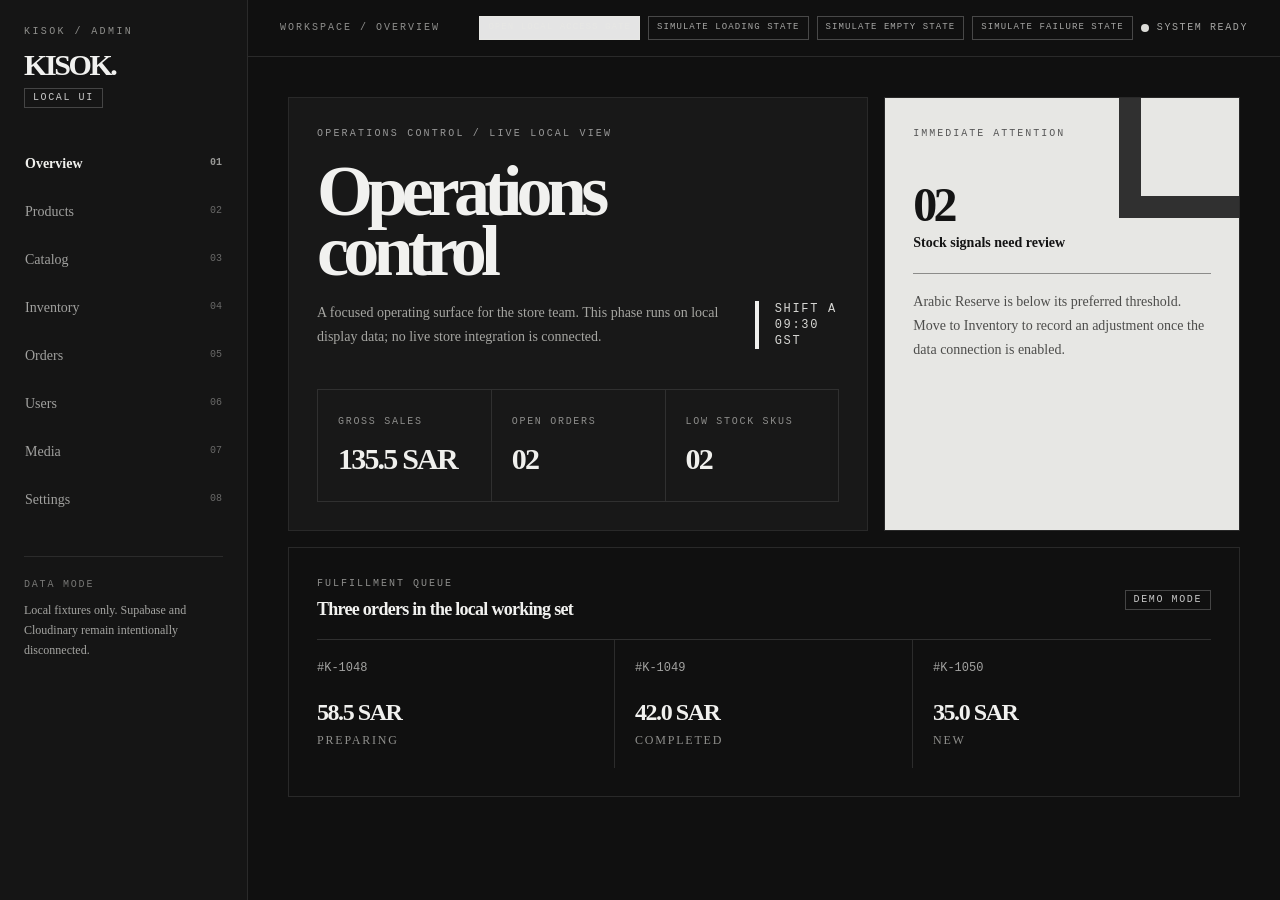
it: KisokAdminConsole › opens a local product draft buffer without requesting an external service
What coordinates should you click on to do the following:
click the button "Products 02"
I would click on:
 (124, 212)
Its box is x1=24 y1=188 x2=223 y2=236.
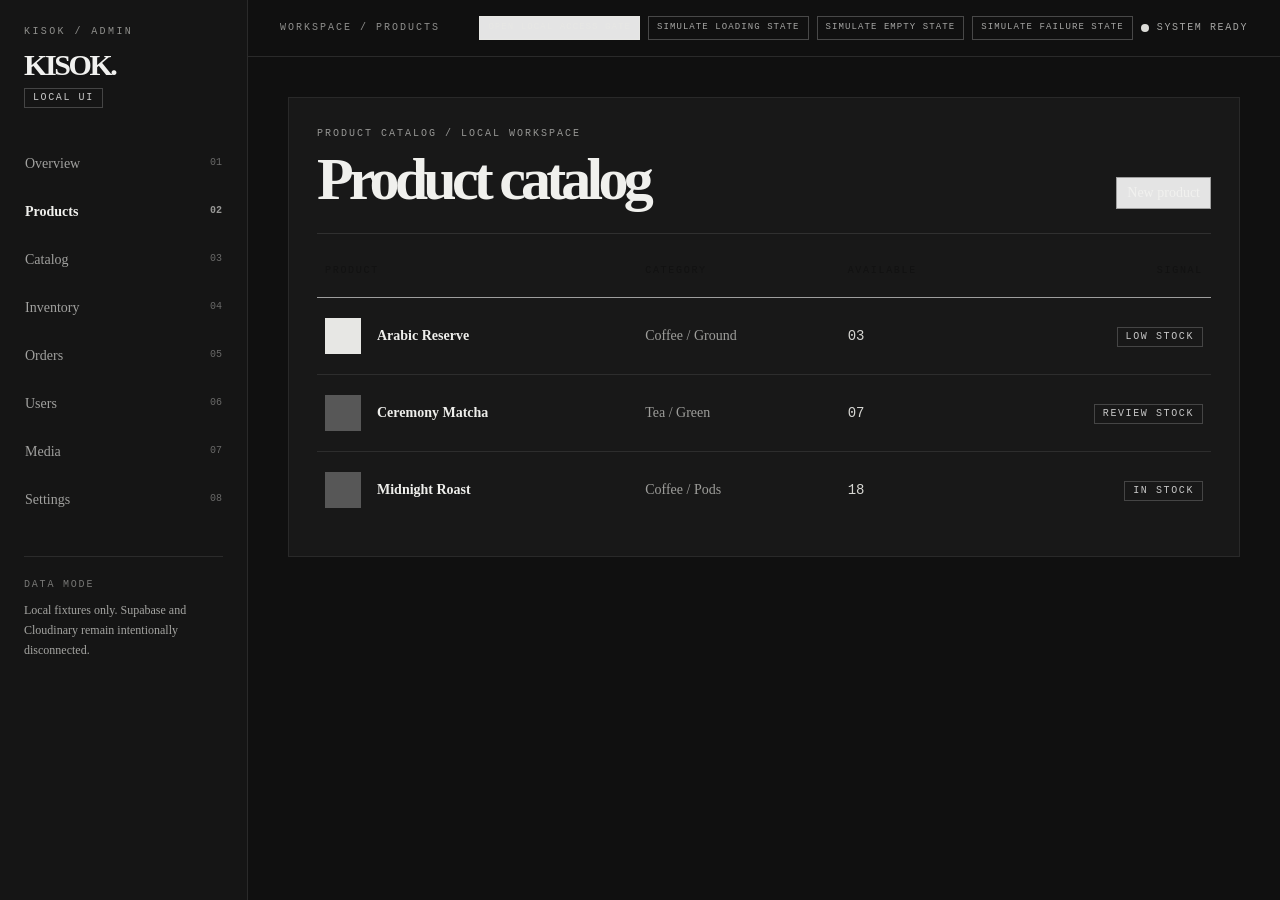
What coordinates should you click on to do the following:
click the button "New product"
I would click on:
 (1164, 192)
Its box is x1=1116 y1=176 x2=1211 y2=208.
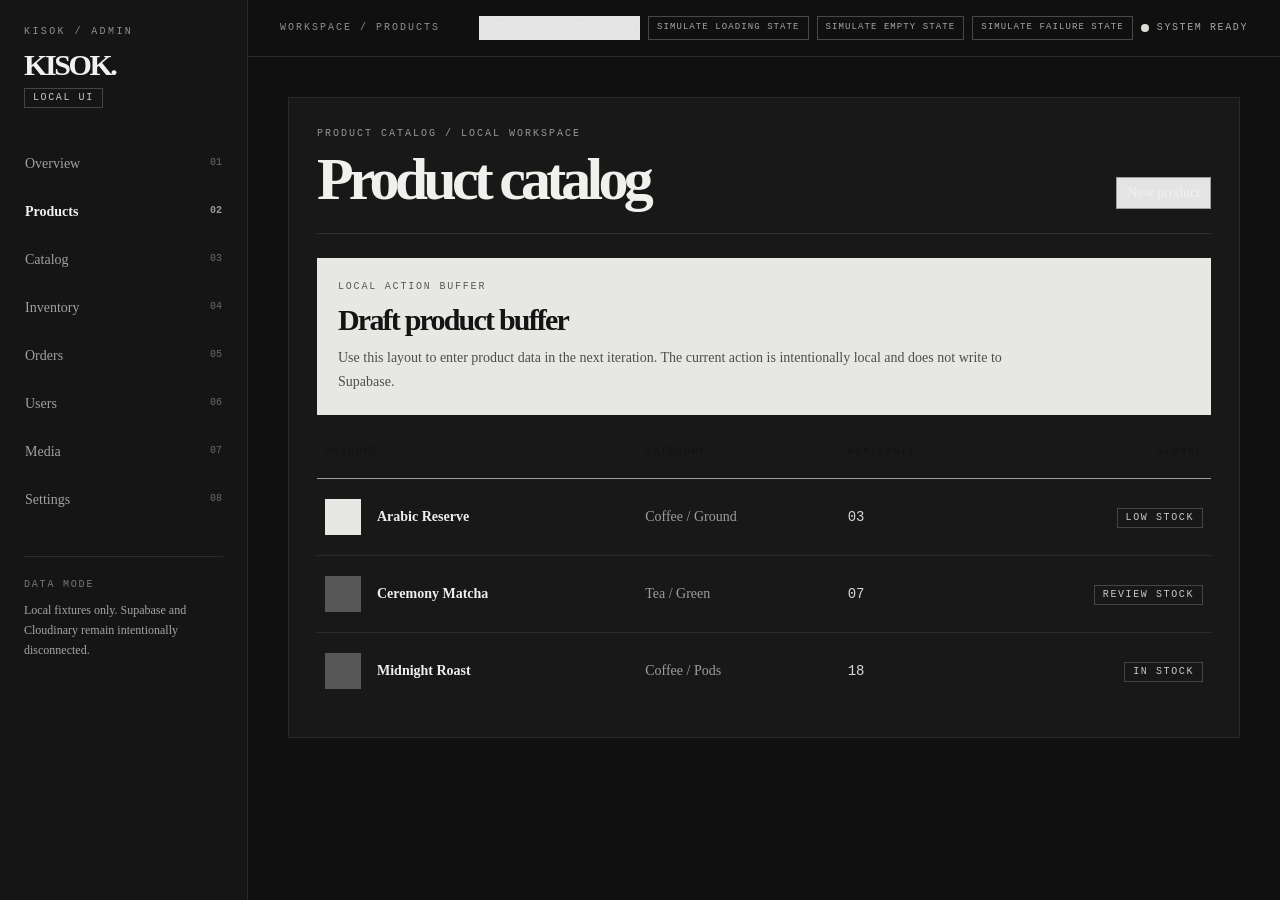
Now the heading "Draft product buffer" is shown, box x1=338 y1=302 x2=568 y2=336
